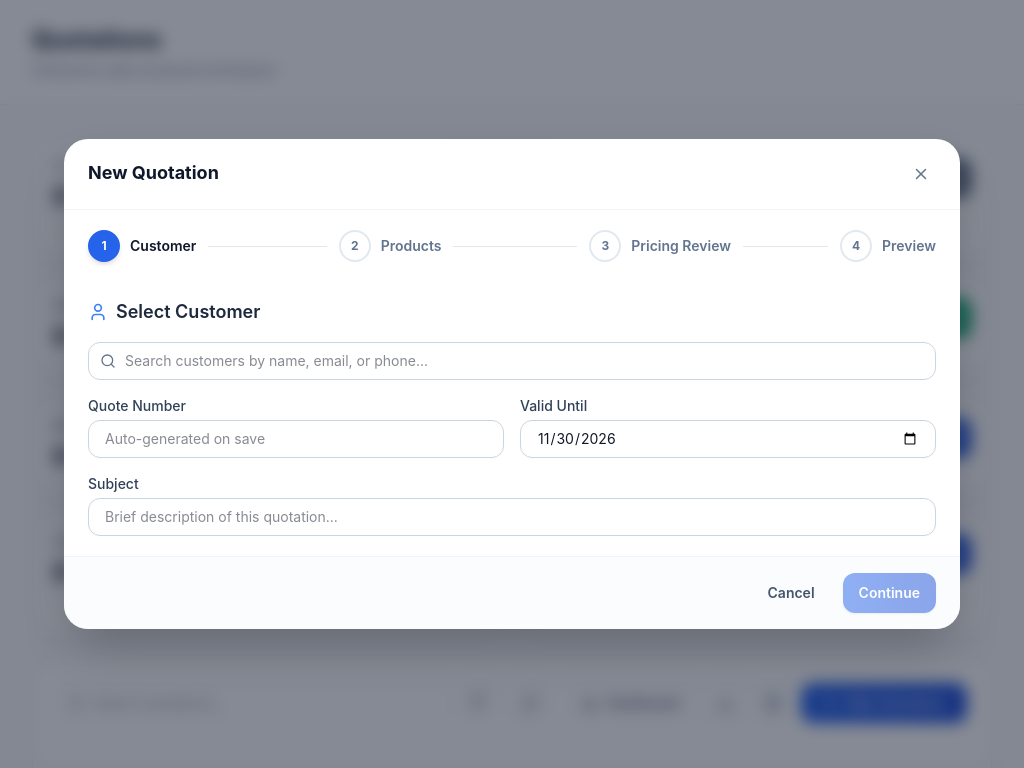
Test: New Quotation wizard — opened via ?create=1 › closes on the × button, drops ?create=1 and stays closed
The width and height of the screenshot is (1024, 768).
Click the button named "Close dialog" at x=921, y=174, box [906,159,936,189]
(page scrolled)
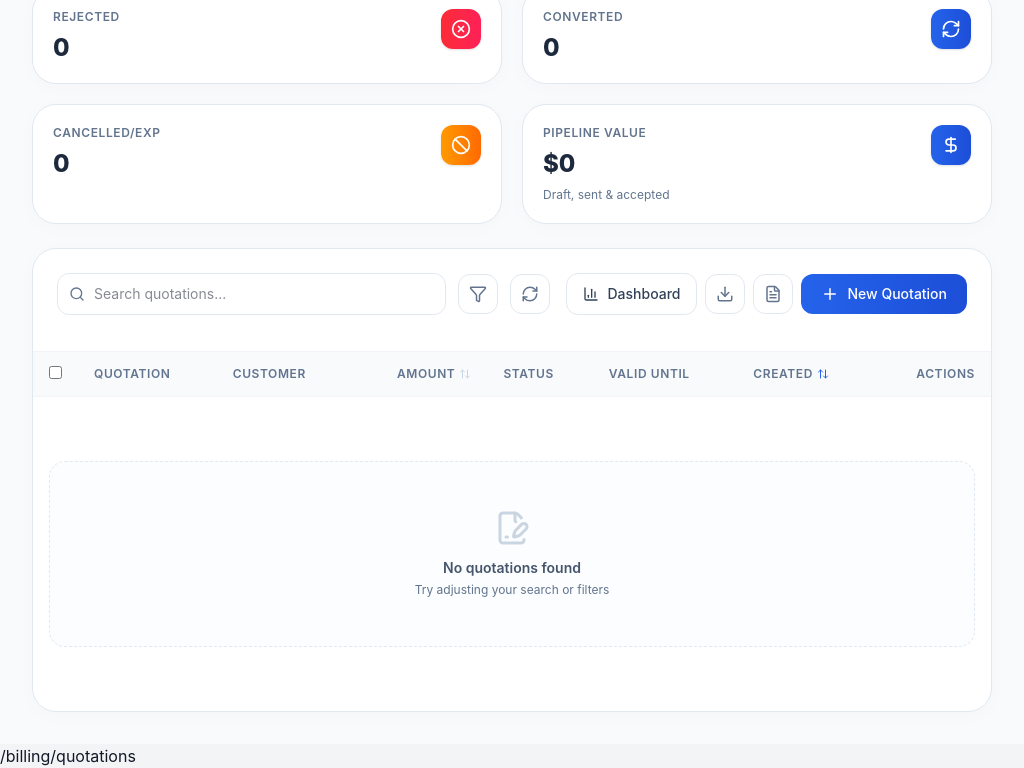
Expected: the text with test id "location" reads "/billing/quotations", [0,746,136,766]
